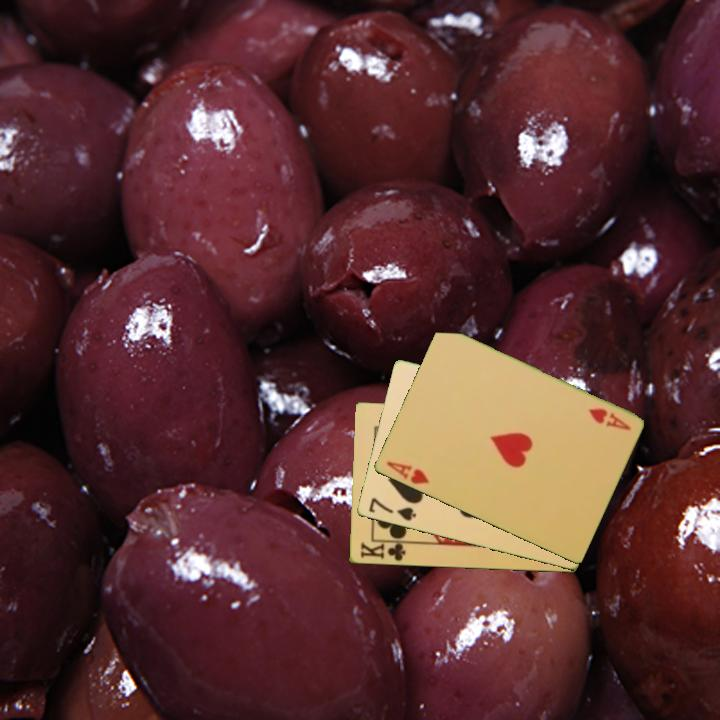7s: (365, 494, 419, 524)
Ah: (382, 458, 432, 487), (585, 405, 633, 433)
Kc: (357, 538, 411, 564)
